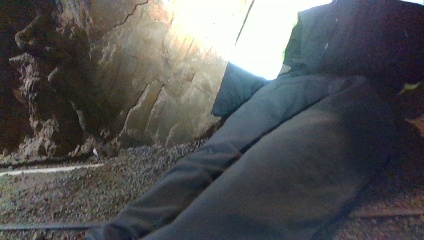manikin: (86, 0, 422, 239)
